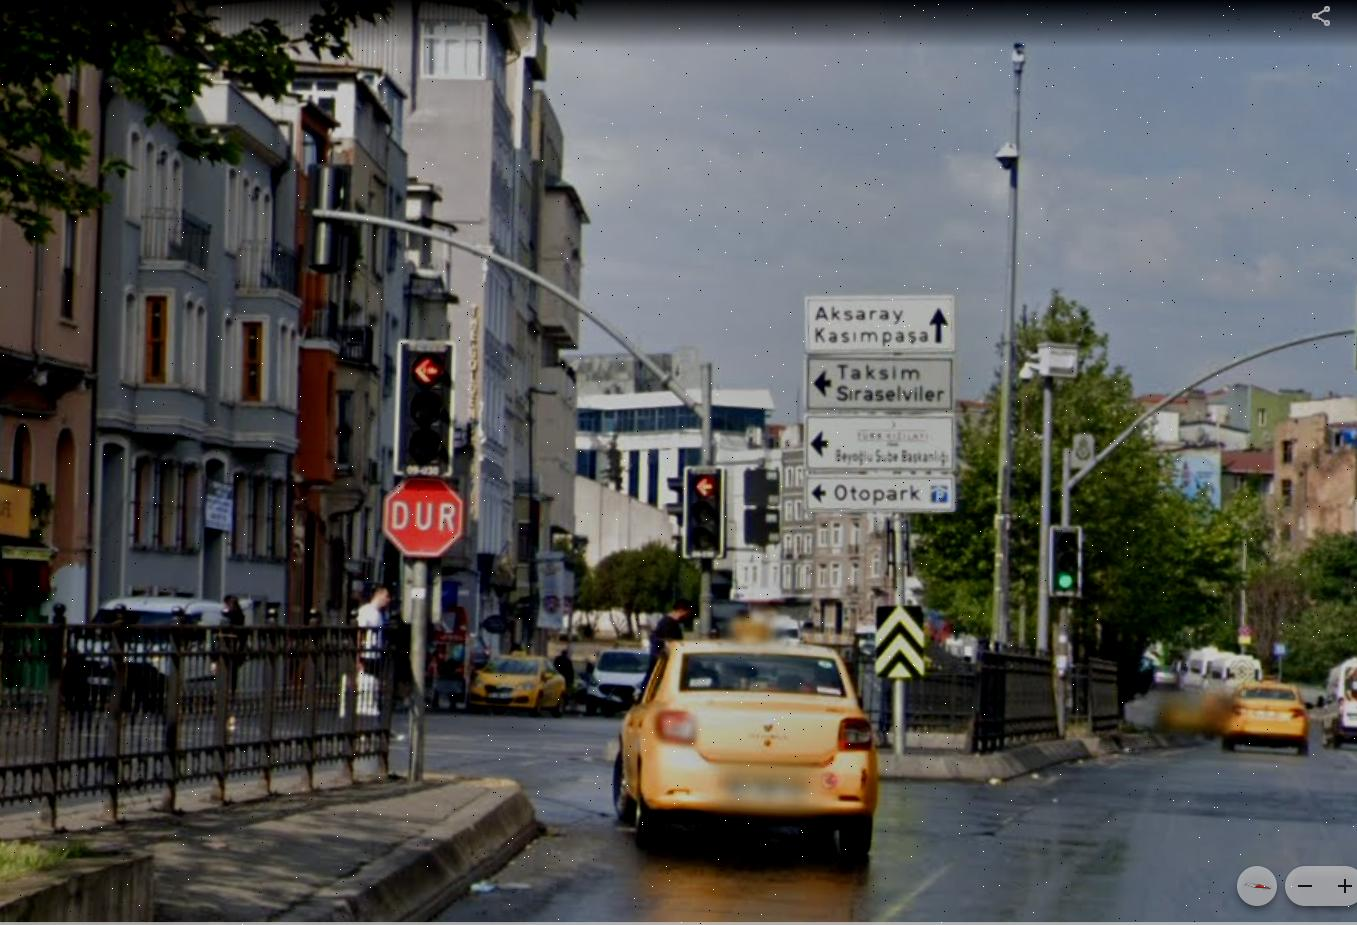redlight: (404, 342, 450, 464), (685, 466, 723, 553)
stop: (384, 476, 467, 558)
